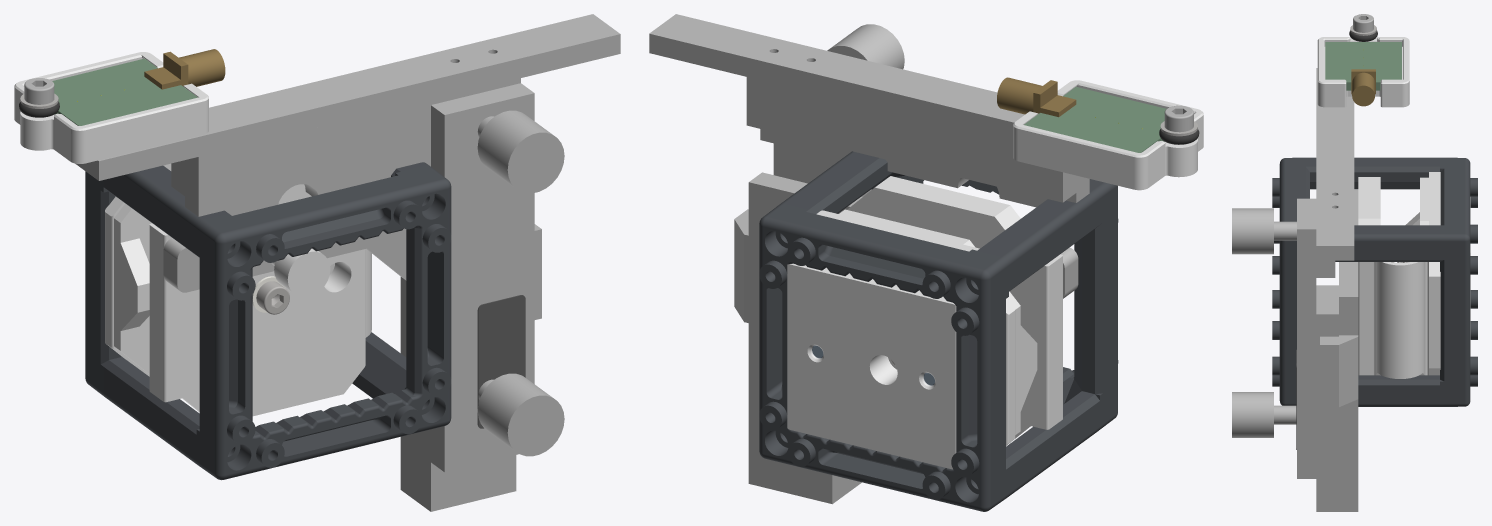
Rendered from ASS_-_3005_-_CUBMANXYST01DIA_-_C.glb.
3 renders of one model, left to right at view 1: azimuth 30°, elevation 25°; view 2: azimuth 150°, elevation 25°; view 3: azimuth 270°, elevation 25°, orthographic. The views are drawn at different scales.
Visible parts, largest first — view 1: BUY - Microscope XY stage - type 01 --- X stage:1, PRT - 1003 - CUBHLF111 - V04:2, PRT - 3014 - UPPCLPPCE - V04 - C:1, BUY - Microscope XY stage - type 01 --- Y stage:1, BUY - Microscope XY stage - type 01 --- Base:1, PRT - 1003 - CUBHLF111 - V04:1, PRT - 3007 - DIABRDHOL - C:1, BRD - Diamands board with HF antenna:1, PRT - 5005 - STKCAUHNDCRU25x10:1, ISO 4762 - Cylinder head screw with hex socket - M3 x 25 - A, ISO 4762 - Hex socket head cap screw - M3 x 8 - A2-50:1; view 2: PRT - 1003 - CUBHLF111 - V04:1, PRT - 3015 - LOWCLPPCE - V04 - C:1, BUY - Microscope XY stage - type 01 --- X stage:1, PRT - 3014 - UPPCLPPCE - V04 - C:1, BUY - Microscope XY stage - type 01 --- Y stage:1, PRT - 1003 - CUBHLF111 - V04:2, BUY - Microscope XY stage - type 01 --- Base:1, PRT - 3007 - DIABRDHOL - C:1, BRD - Diamands board with HF antenna:1, ISO 4762 - Hex socket head cap screw - M3 x 8 - A2-50:1; view 3: PRT - 1003 - CUBHLF111 - V04:1, PRT - 3014 - UPPCLPPCE - V04 - C:1, BUY - Microscope XY stage - type 01 --- X stage:1, PRT - 1003 - CUBHLF111 - V04:2, BUY - Microscope XY stage - type 01 --- Base:1, BUY - Microscope XY stage - type 01 --- Y stage:1, BRD - Diamands board with HF antenna:1, PRT - 3007 - DIABRDHOL - C:1, ISO 4762 - Hex socket head cap screw - M3 x 8 - A2-50:1.
Boxes of the visible parts, box(x1,y1,x2,y2) form: BUY - Microscope XY stage - type 01 --- X stage:1: box(171, 78, 564, 472); PRT - 1003 - CUBHLF111 - V04:2: box(103, 165, 451, 480); PRT - 3014 - UPPCLPPCE - V04 - C:1: box(105, 163, 371, 416); BUY - Microscope XY stage - type 01 --- Y stage:1: box(75, 14, 620, 180); BUY - Microscope XY stage - type 01 --- Base:1: box(163, 224, 541, 511); PRT - 1003 - CUBHLF111 - V04:1: box(85, 162, 429, 464); PRT - 3007 - DIABRDHOL - C:1: box(14, 52, 208, 163); BRD - Diamands board with HF antenna:1: box(52, 49, 225, 125); PRT - 5005 - STKCAUHNDCRU25x10:1: box(477, 295, 525, 428); ISO 4762 - Cylinder head screw with hex socket - M3 x 25 - A: box(256, 281, 289, 314); ISO 4762 - Hex socket head cap screw - M3 x 8 - A2-50:1: box(24, 78, 54, 104); PRT - 1003 - CUBHLF111 - V04:1: box(759, 151, 1099, 511); PRT - 3015 - LOWCLPPCE - V04 - C:1: box(787, 263, 956, 469); BUY - Microscope XY stage - type 01 --- X stage:1: box(746, 24, 1089, 207); PRT - 3014 - UPPCLPPCE - V04 - C:1: box(816, 176, 1062, 445); BUY - Microscope XY stage - type 01 --- Y stage:1: box(649, 14, 1024, 141); PRT - 1003 - CUBHLF111 - V04:2: box(783, 172, 1118, 438); BUY - Microscope XY stage - type 01 --- Base:1: box(734, 172, 1078, 504); PRT - 3007 - DIABRDHOL - C:1: box(1013, 80, 1203, 190); BRD - Diamands board with HF antenna:1: box(997, 77, 1166, 152); ISO 4762 - Hex socket head cap screw - M3 x 8 - A2-50:1: box(1164, 105, 1193, 132); PRT - 1003 - CUBHLF111 - V04:1: box(1335, 157, 1477, 406); PRT - 3014 - UPPCLPPCE - V04 - C:1: box(1358, 172, 1440, 378); BUY - Microscope XY stage - type 01 --- X stage:1: box(1232, 198, 1354, 478); PRT - 1003 - CUBHLF111 - V04:2: box(1272, 157, 1439, 406); BUY - Microscope XY stage - type 01 --- Base:1: box(1316, 189, 1358, 511); BUY - Microscope XY stage - type 01 --- Y stage:1: box(1316, 68, 1354, 259); BRD - Diamands board with HF antenna:1: box(1325, 42, 1401, 106); PRT - 3007 - DIABRDHOL - C:1: box(1317, 37, 1409, 107); ISO 4762 - Hex socket head cap screw - M3 x 8 - A2-50:1: box(1353, 14, 1373, 32).
Size of the model in its own units: 119 by 98.9 by 64.3.
